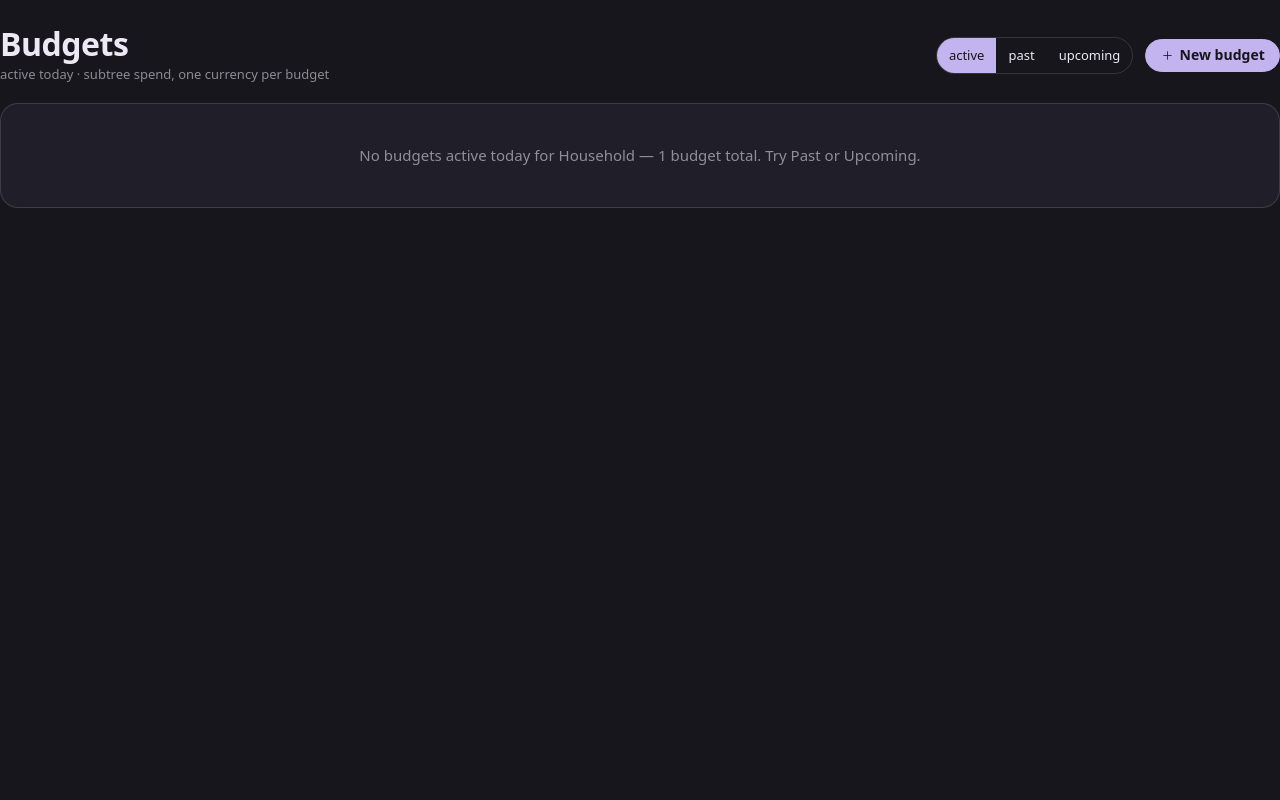
clicking Edit on a budget card opens the edit form
Click the button "past" at point(1022, 56), box [996,38,1047,73]
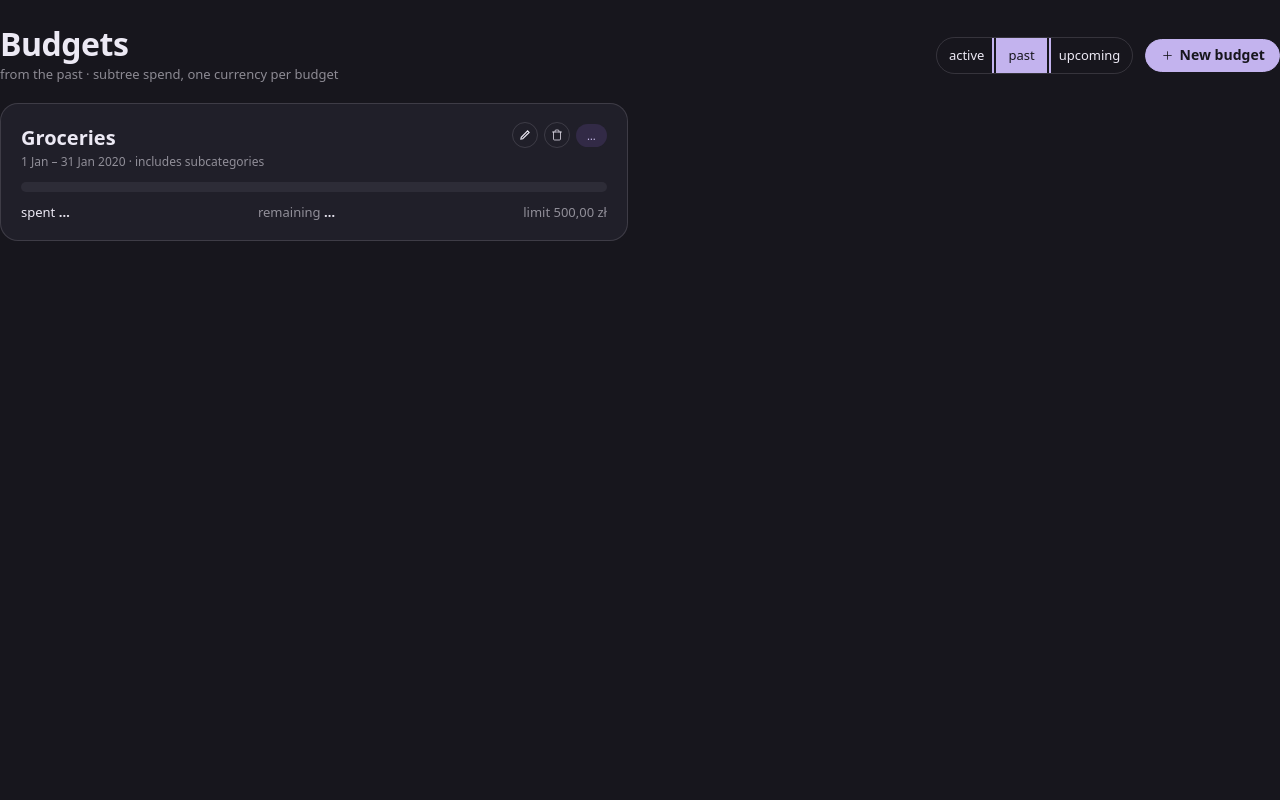
Click the button named "Edit Groceries budget" at point(525, 135), box [512,122,538,148]
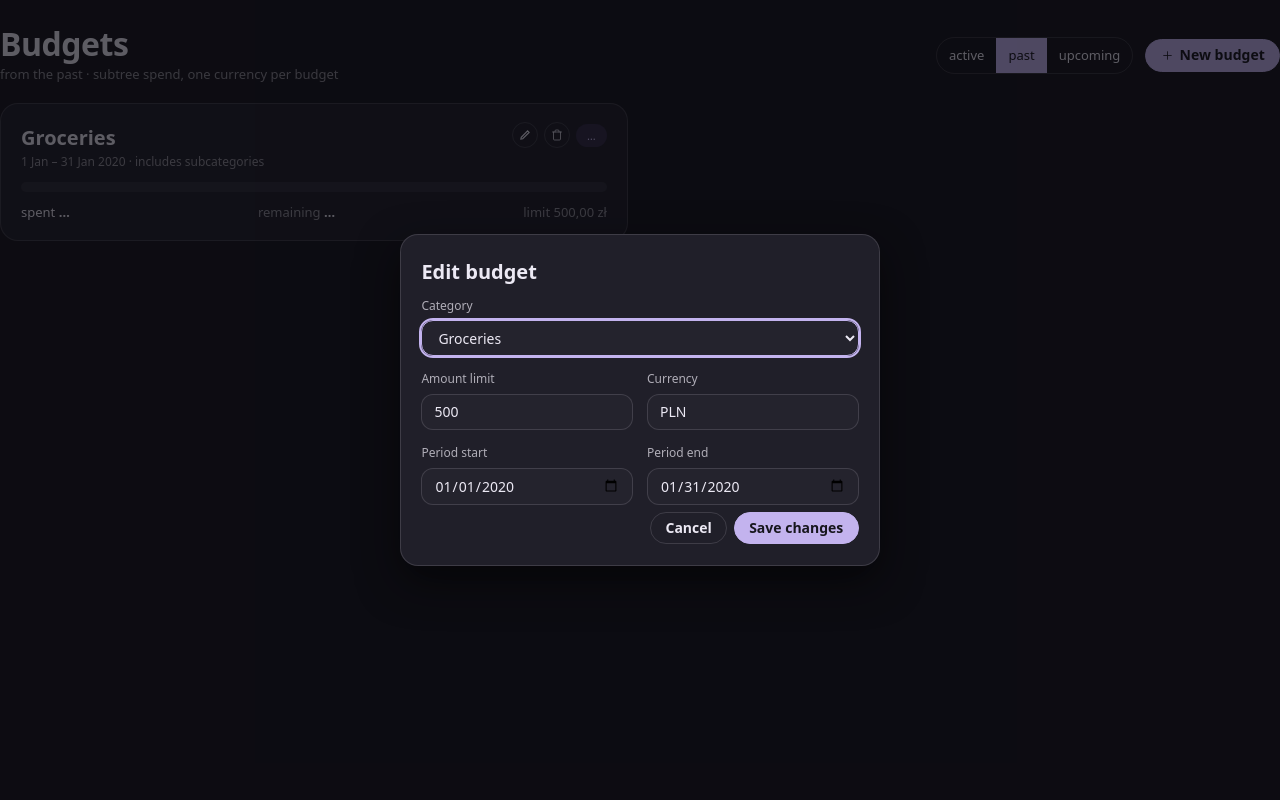
Now the dialog "Edit budget" is shown, box [400,234,880,566]
